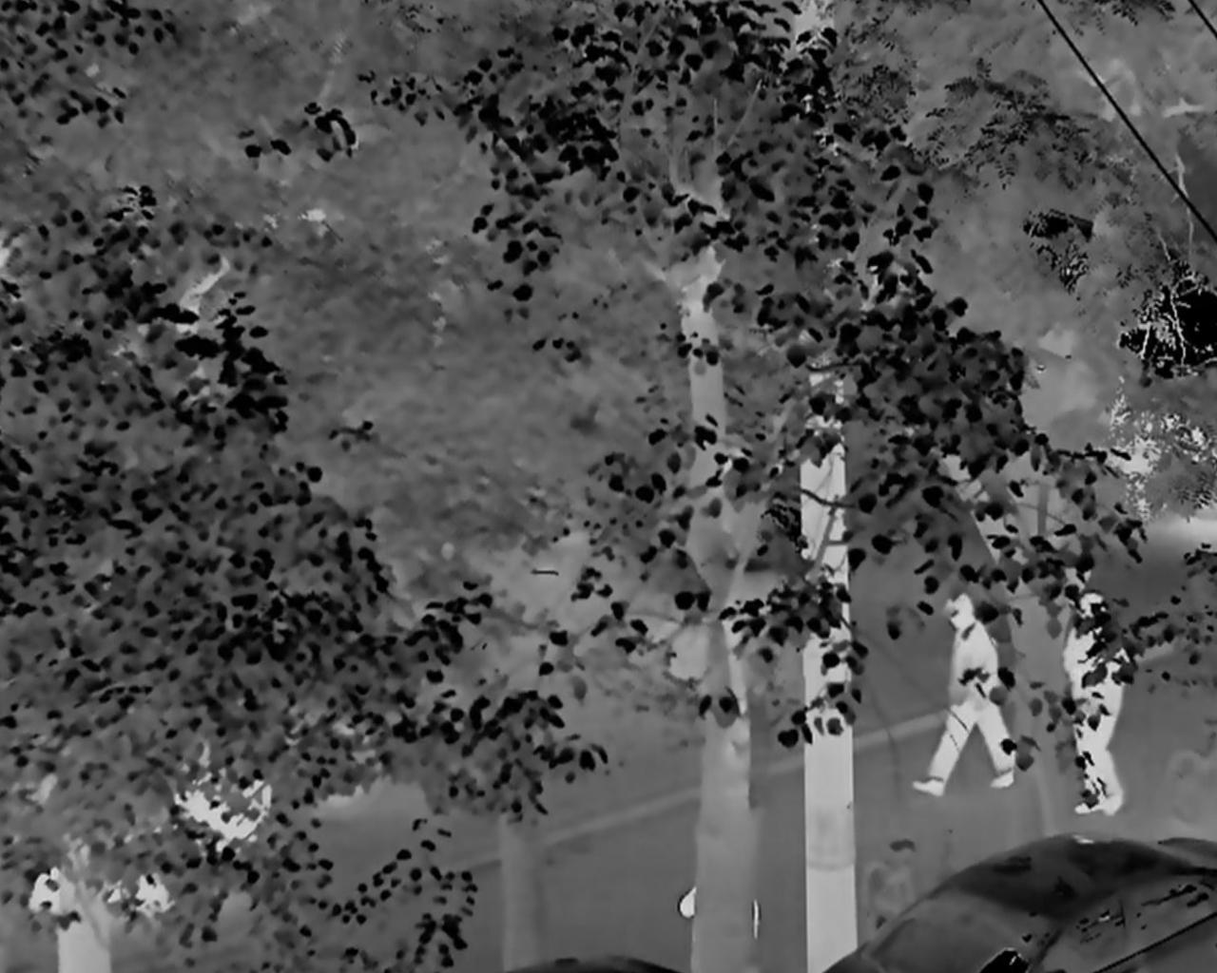person: (933, 593, 1019, 802), (1062, 590, 1130, 814)
